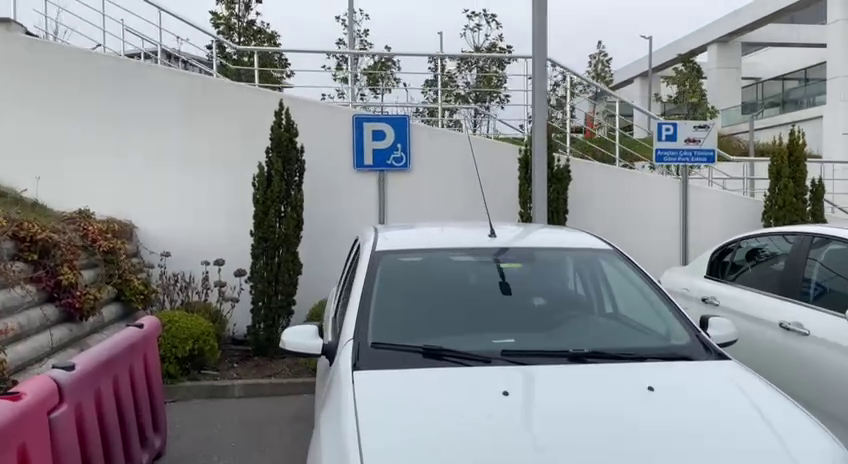parking: (351, 115, 411, 172), (655, 121, 680, 143)
